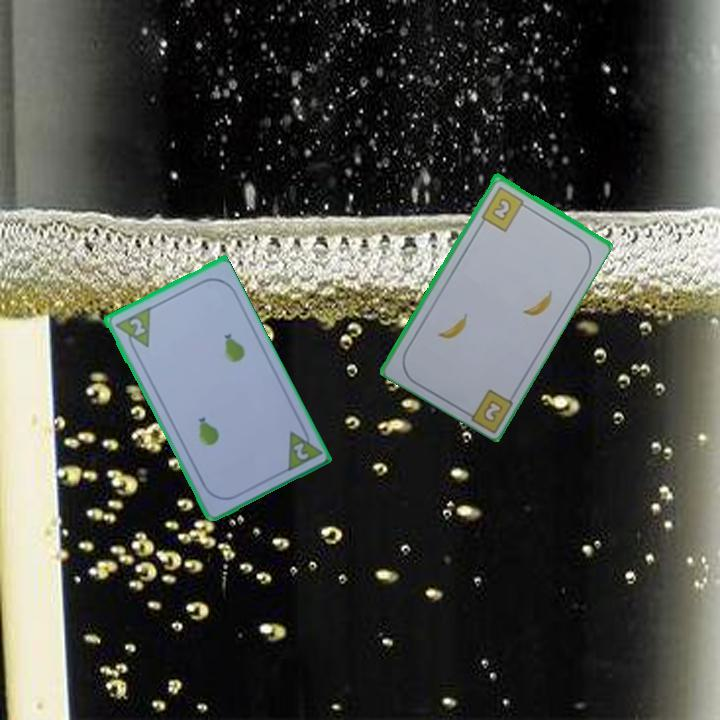2b: (478, 183, 531, 234), (479, 396, 506, 425)
2p: (282, 421, 324, 475), (125, 314, 148, 338)
